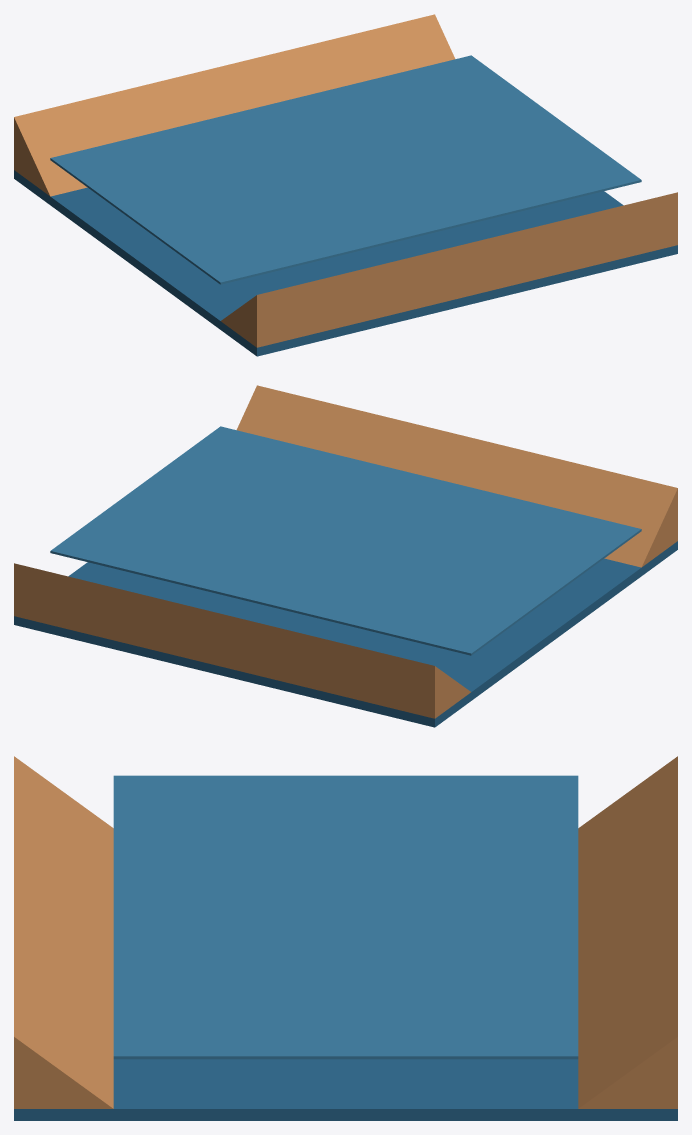
Rendered from ENV_Tile_River.fbx.
3 views of the same model, one above another, from view 1: azimuth 30°, elevation 25°; view 2: azimuth 150°, elevation 25°; view 3: azimuth 270°, elevation 25° (orthographic). The views are drawn at different scales.
Parts seen in each view (by area): view 1: ENV_Tile_River; view 2: ENV_Tile_River; view 3: ENV_Tile_River.
Boxes of the visible parts, x1=… form: ENV_Tile_River: x1=14, y1=14, x2=677, y2=356; ENV_Tile_River: x1=14, y1=385, x2=677, y2=727; ENV_Tile_River: x1=14, y1=756, x2=677, y2=1120.
Size of the model in its own units: 10 by 1.4 by 10.
